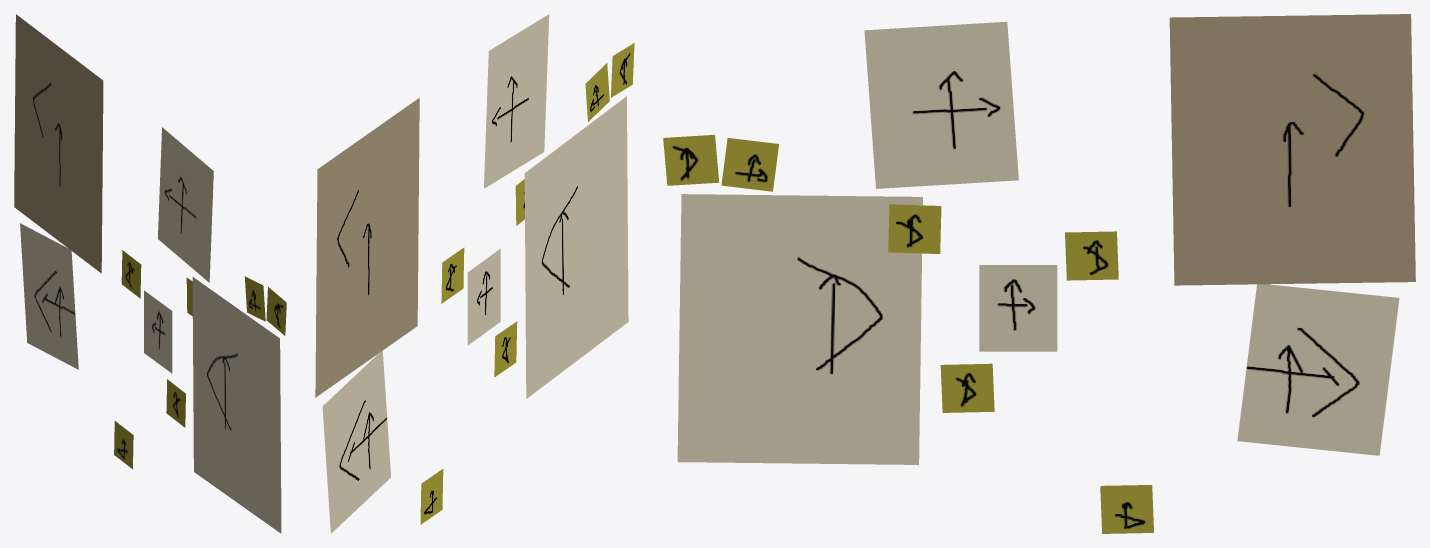
The model's file is SM_Billboard_notes.fbx.
3 views of the same model, side by side, from view 1: azimuth 30°, elevation 25°; view 2: azimuth 150°, elevation 25°; view 3: azimuth 270°, elevation 25° (orthographic). The views are drawn at different scales.
Visible parts, largest first — view 1: Billboard notes; view 2: Billboard notes; view 3: Billboard notes.
Part boxes in pixels (x1=…): Billboard notes: x1=14, y1=14, x2=286, y2=533; Billboard notes: x1=315, y1=14, x2=634, y2=533; Billboard notes: x1=663, y1=14, x2=1415, y2=533.
Size of the model in its own units: 2.35 by 156 by 205.
